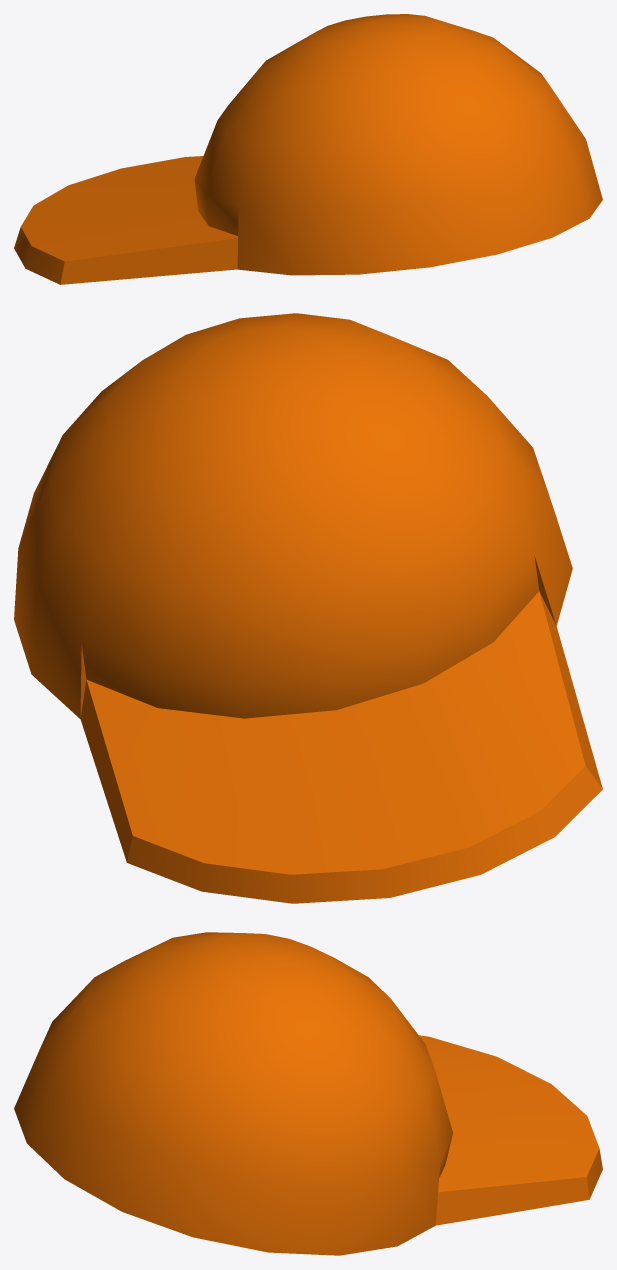
The model's file is BoneRadical.fbx.
3 renders of one model, top to bottom at view 1: azimuth 30°, elevation 25°; view 2: azimuth 150°, elevation 25°; view 3: azimuth 270°, elevation 25°, orthographic. The views are drawn at different scales.
Parts seen in each view (by area): view 1: BoneRadical; view 2: BoneRadical; view 3: BoneRadical.
Part boxes in pixels (box(x1,y1,x2,y2)): BoneRadical: box(14, 14, 602, 284); BoneRadical: box(14, 313, 602, 903); BoneRadical: box(14, 932, 602, 1255).
Size of the model in its own units: 308 by 163 by 318.
